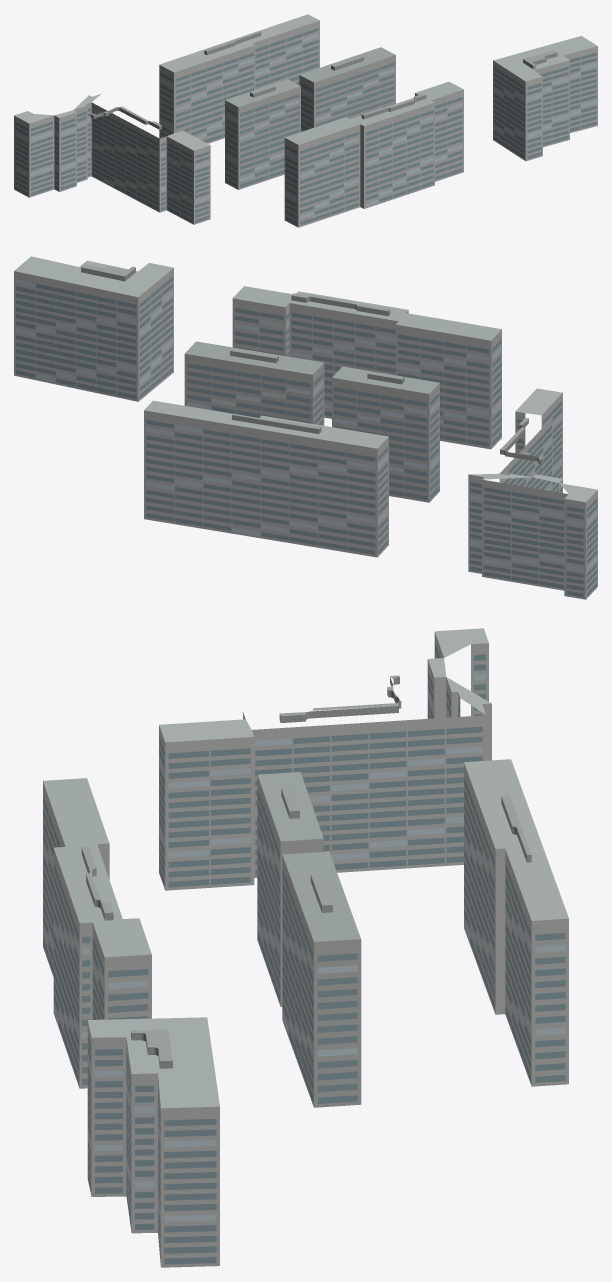
File: apt-a13202308.glb
The picture shows the model from 3 angles, top to bottom: view 1: azimuth 30°, elevation 25°; view 2: azimuth 150°, elevation 25°; view 3: azimuth 270°, elevation 25°; orthographic projection. The views are drawn at different scales.
Visible parts, largest first — view 1: apt-a13202308; view 2: apt-a13202308; view 3: apt-a13202308.
Boxes of the visible parts, left/top/right/bottom form: apt-a13202308: left=14, top=14, right=597, bottom=227; apt-a13202308: left=14, top=256, right=597, bottom=599; apt-a13202308: left=43, top=628, right=568, bottom=1267.
Bounding box in the file's own units: 271 × 44.62 × 123.
